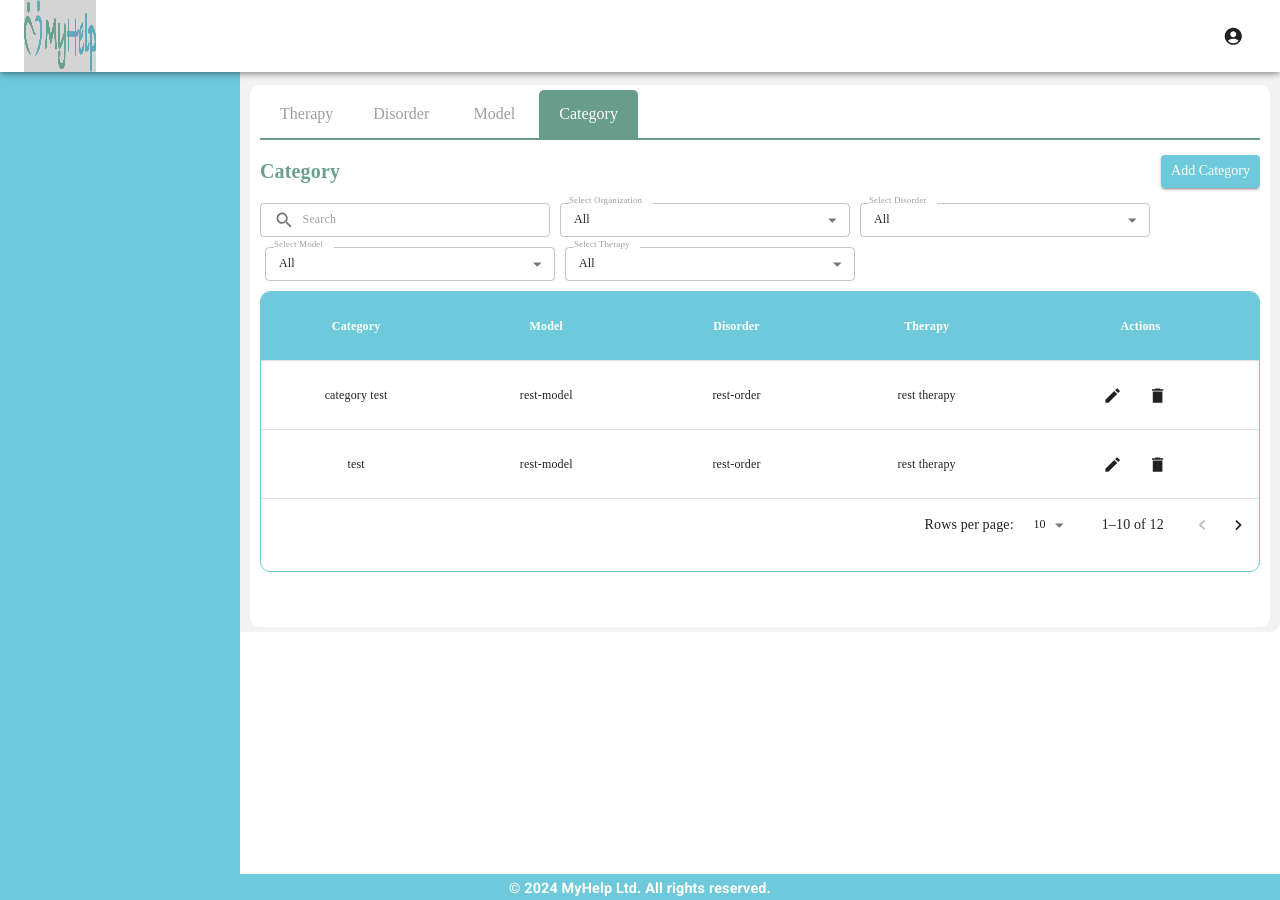
Test: Admin category list › should delete category fail
The width and height of the screenshot is (1280, 900).
Click the button with test id "iconButton_delete_categoryid2".
click(1158, 464)  # box [1140,446,1175,482]
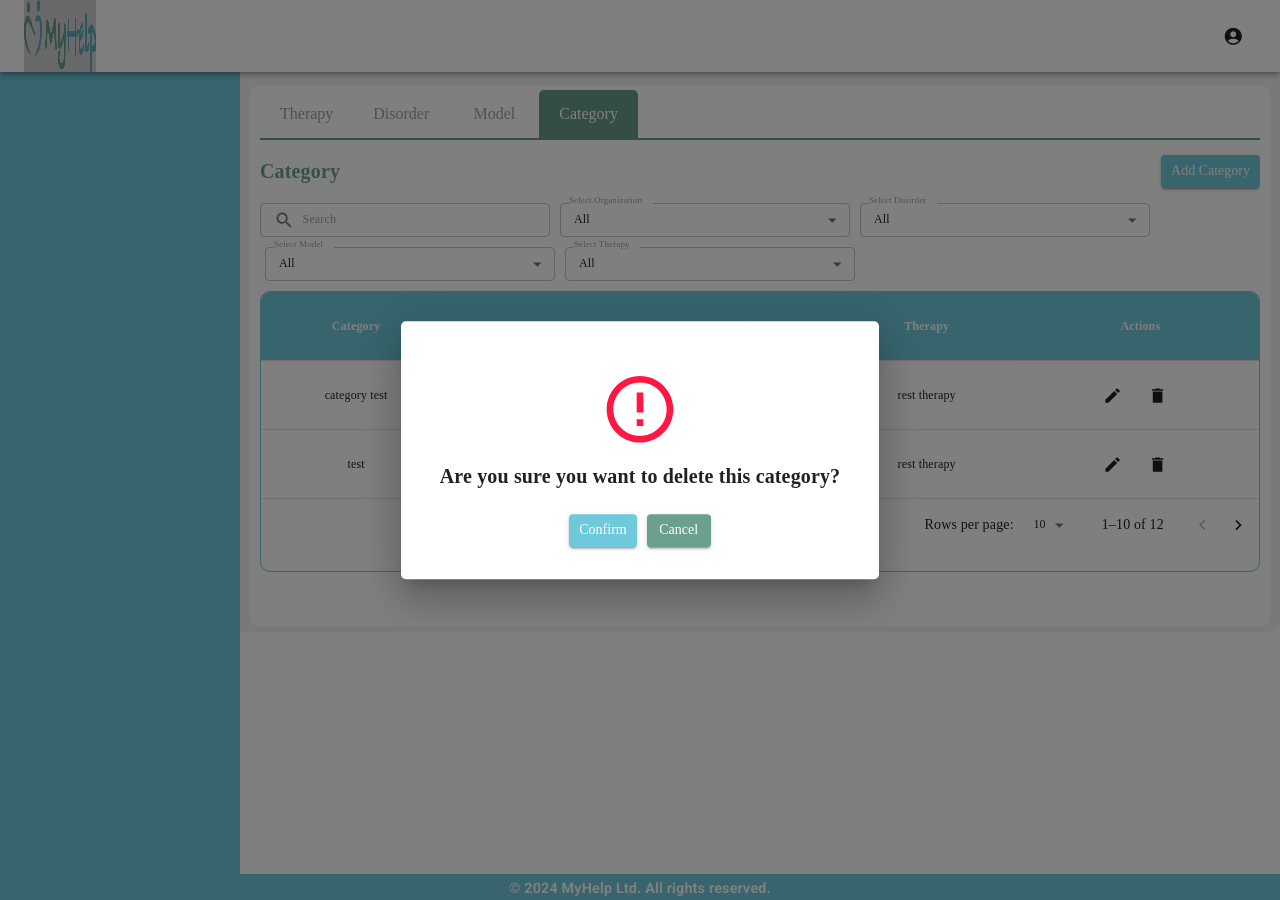
Click the button with test id "confirmButton".
click(603, 531)  # box [569,514,637,547]
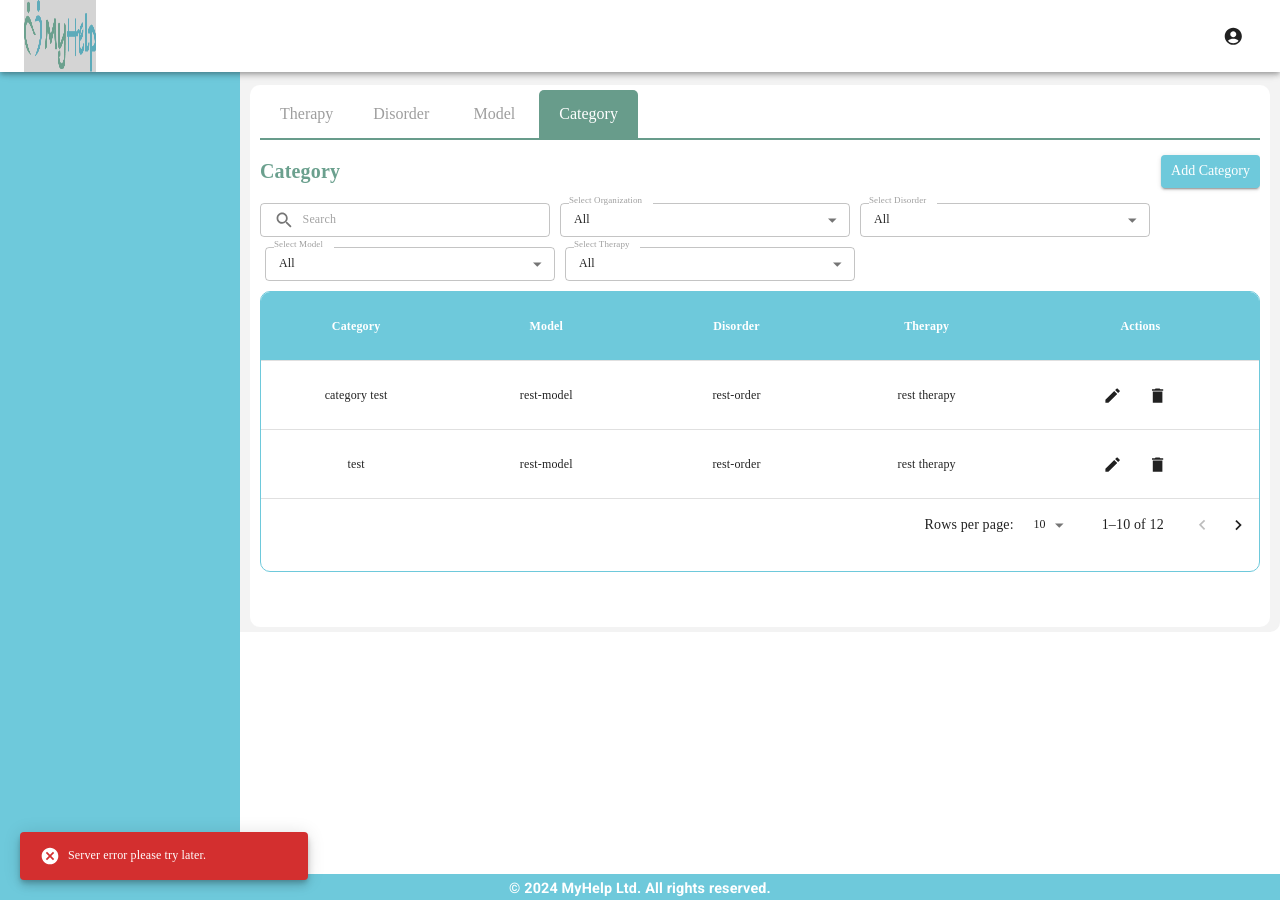
expect the text "Server error please try later." is shown: met, box [40,846,206,866]
